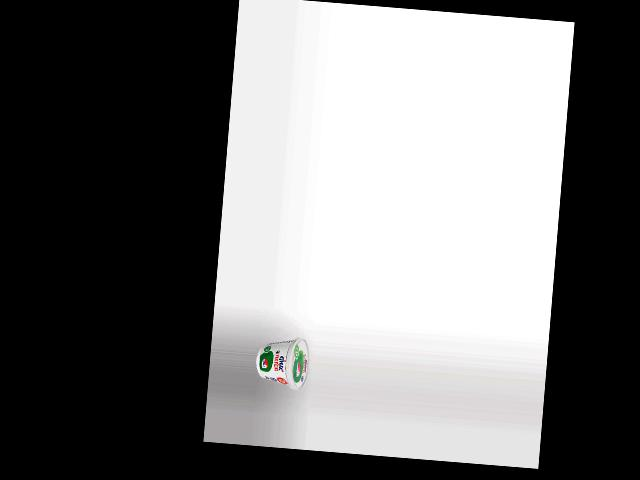cotage: (254, 333, 311, 392)
